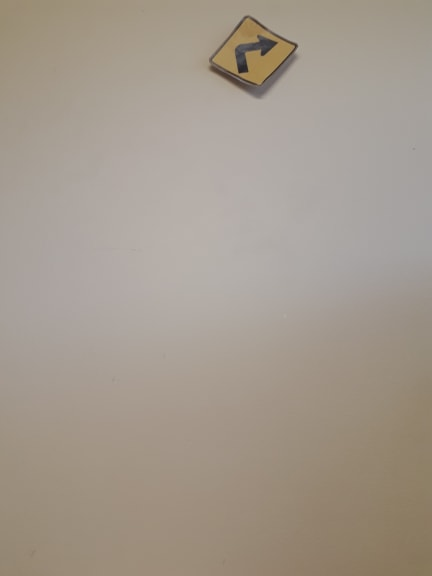right: (208, 3, 378, 115), (219, 16, 293, 70), (252, 28, 288, 52)
